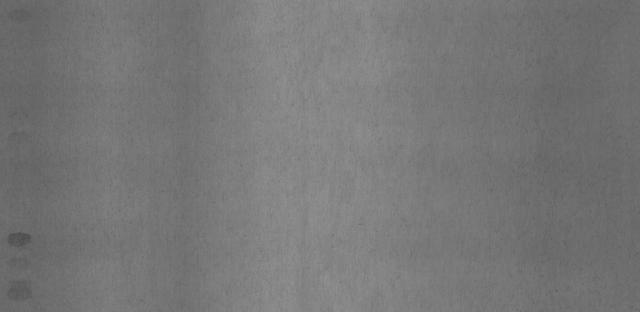oil_spot: (7, 275, 35, 305), (6, 228, 33, 250)
